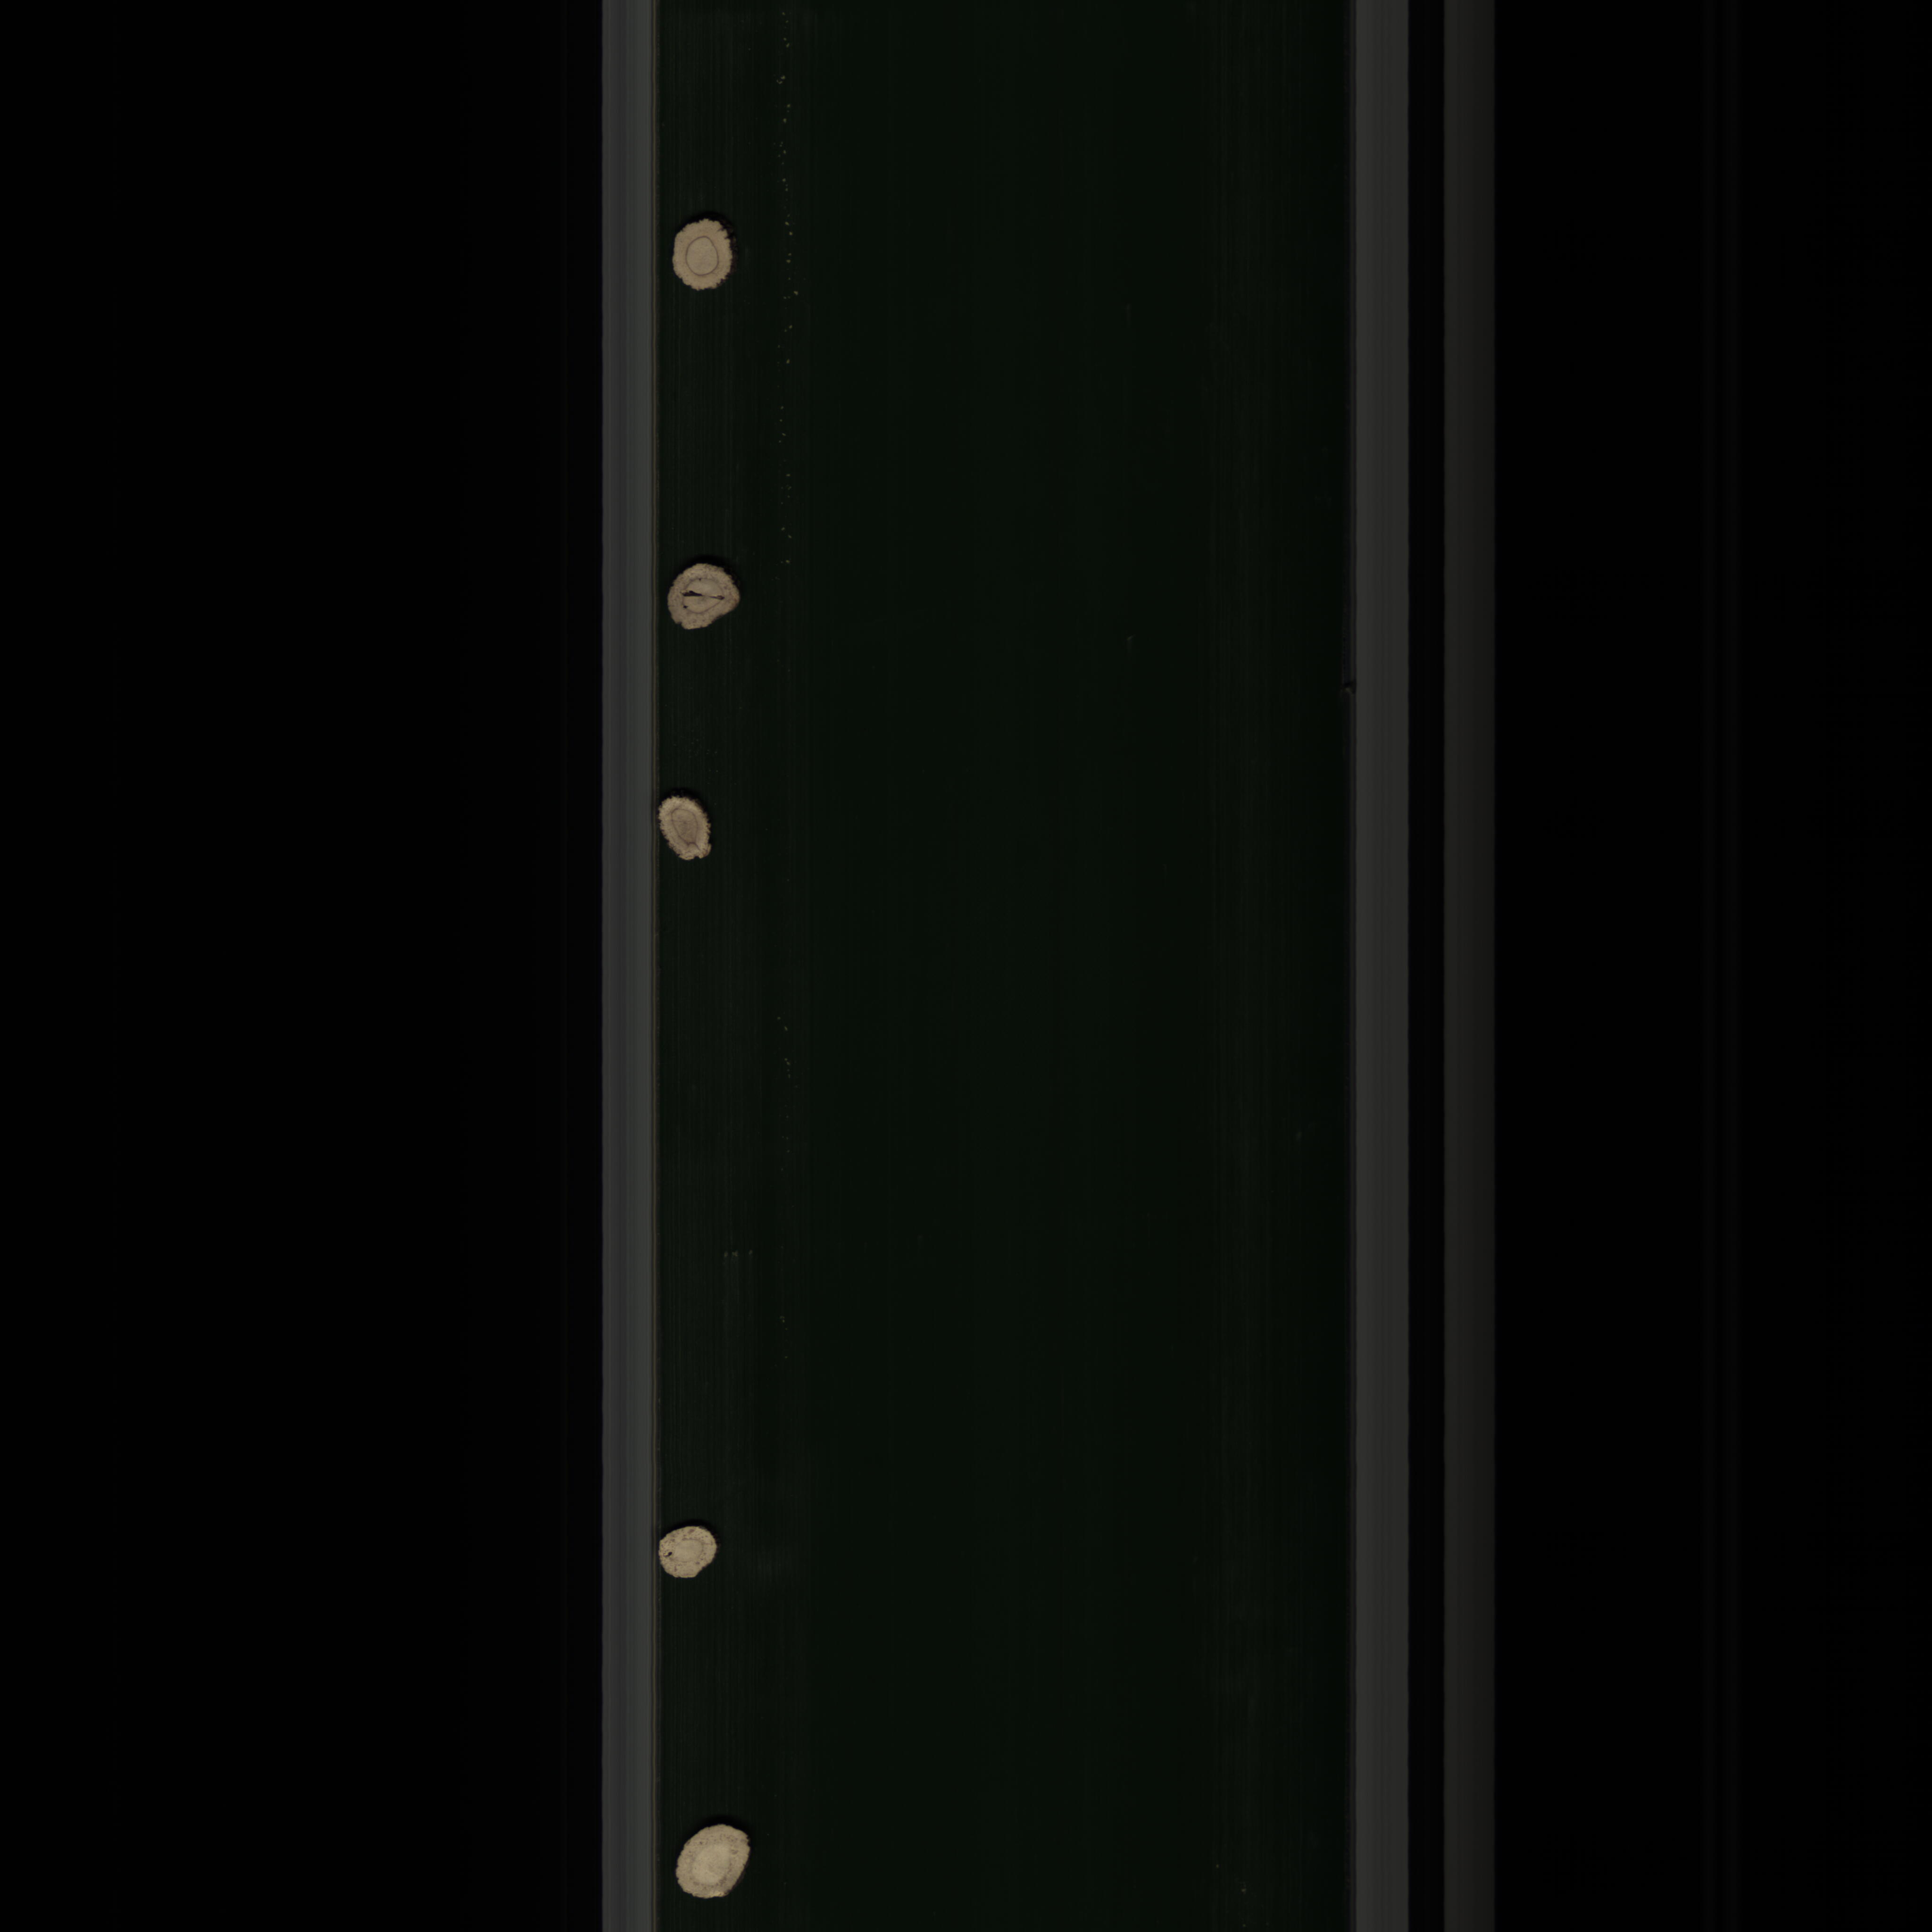hole: (663, 556, 757, 640), (656, 1520, 729, 1591)
